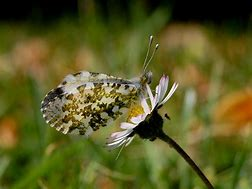insect: (40, 35, 157, 135)
